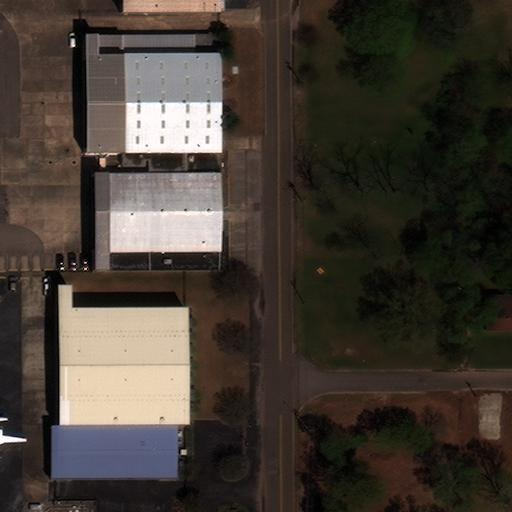Medium Civil Transport: (0, 416, 25, 460)
